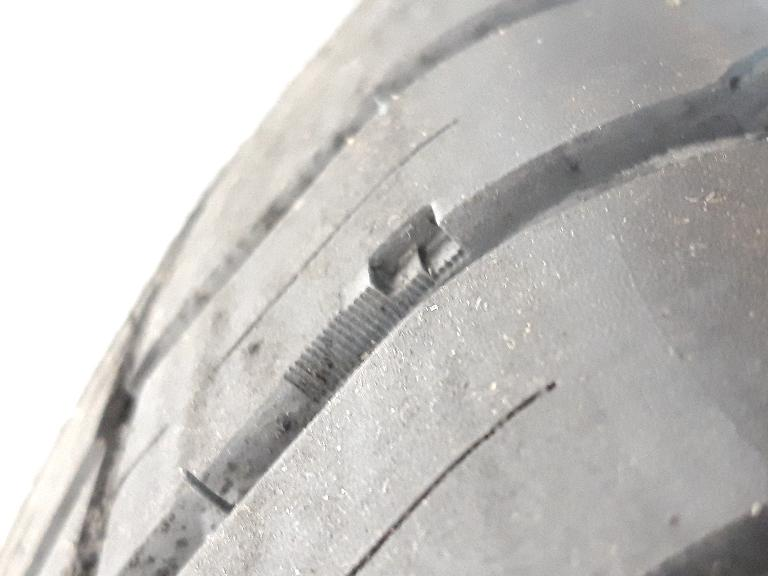temoin:50: (333, 197, 480, 345)
